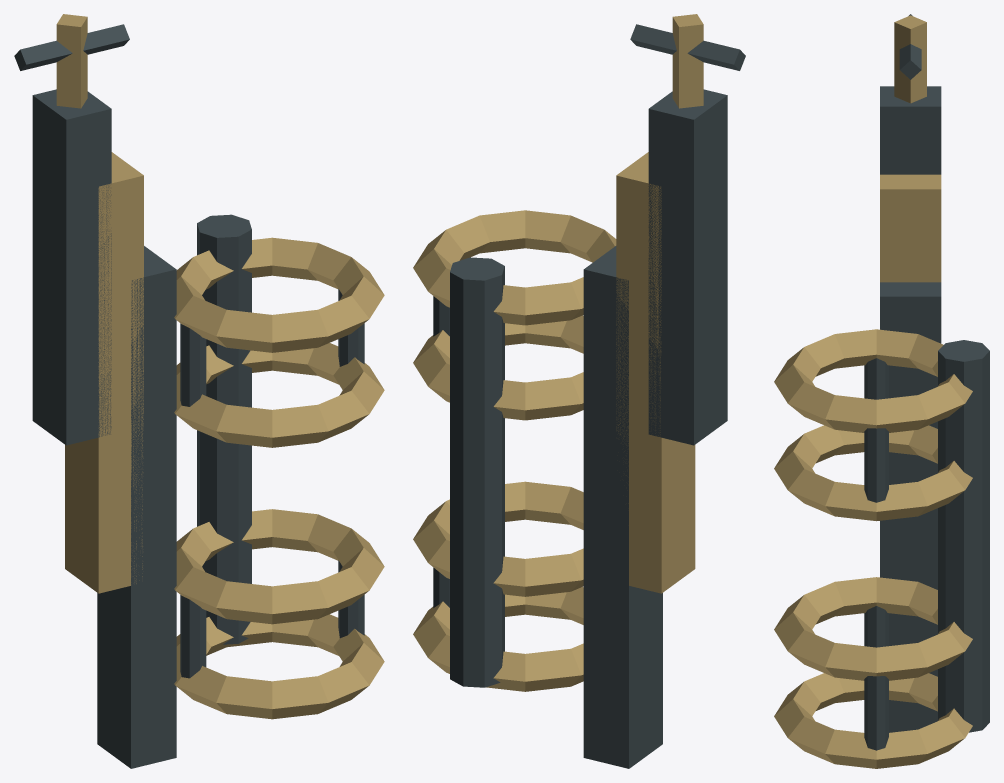
Rendered from Equip_TelescopicRail.fbx.
3 views of the same model, side by side, from view 1: azimuth 30°, elevation 25°; view 2: azimuth 150°, elevation 25°; view 3: azimuth 270°, elevation 25° (orthographic). The views are drawn at different scales.
Visible parts, largest first — view 1: Equip_TelescopicRail; view 2: Equip_TelescopicRail; view 3: Equip_TelescopicRail.
Part boxes in pixels (left/top/right/bottom): Equip_TelescopicRail: left=14, top=14, right=384, bottom=768; Equip_TelescopicRail: left=413, top=14, right=745, bottom=768; Equip_TelescopicRail: left=774, top=14, right=989, bottom=768.
Size of the model in its own units: 0.255 by 0.55 by 0.158.
